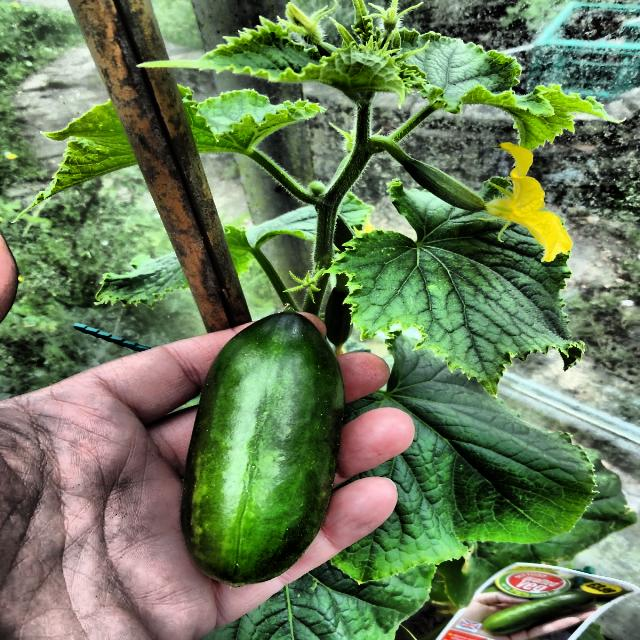cucumber: (185, 284, 350, 595)
